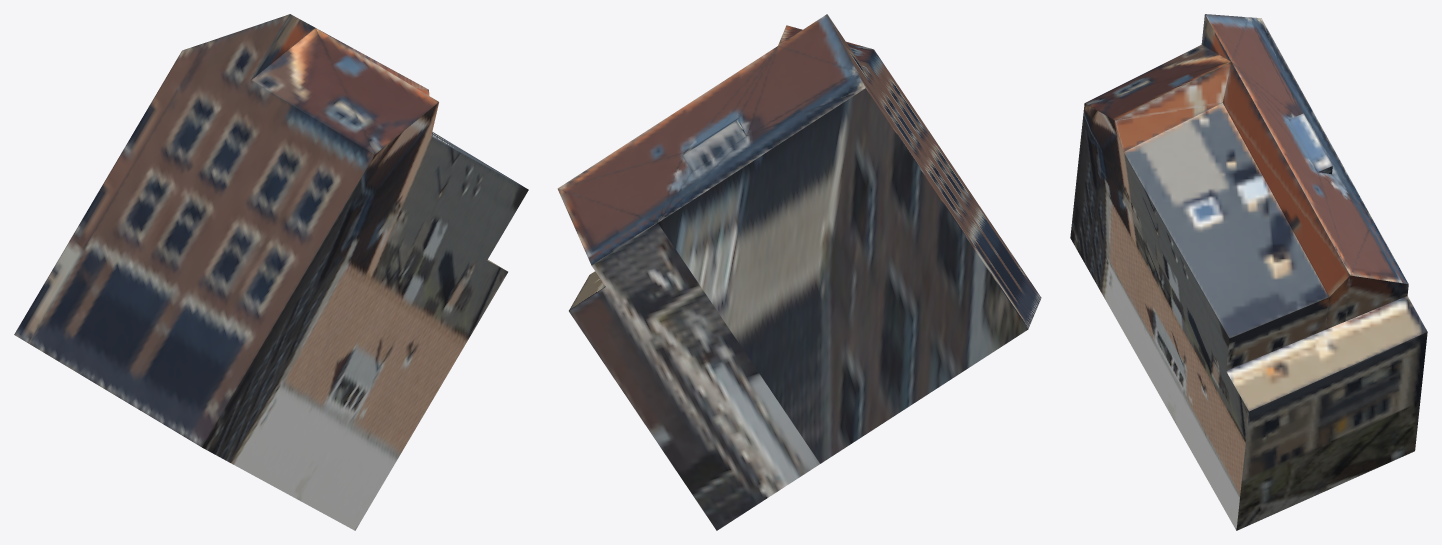
3 renders of one model, left to right at view 1: azimuth 30°, elevation 25°; view 2: azimuth 150°, elevation 25°; view 3: azimuth 270°, elevation 25°, orthographic. The views are drawn at different scales.
Parts seen in each view (by area): view 1: BAG_0599100000760381 (×4); view 2: BAG_0599100000760381 (×6); view 3: BAG_0599100000760381 (×6).
Part boxes in pixels (<box>): BAG_0599100000760381 (×4): <box>14,14,528,530</box>; BAG_0599100000760381 (×6): <box>558,14,1041,530</box>; BAG_0599100000760381 (×6): <box>1070,14,1427,530</box>.
Bounding box in the file's own units: 21.05 × 21.94 × 14.76.
7 materials, 7 textured.
